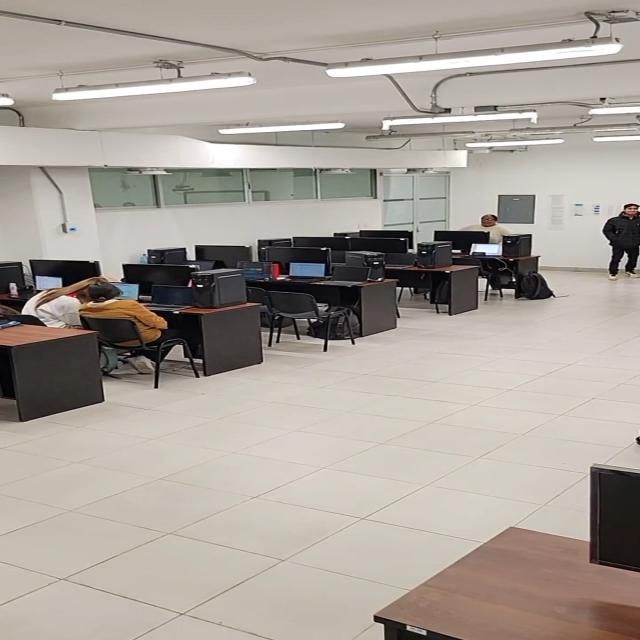Persona: (602, 202, 640, 279)
